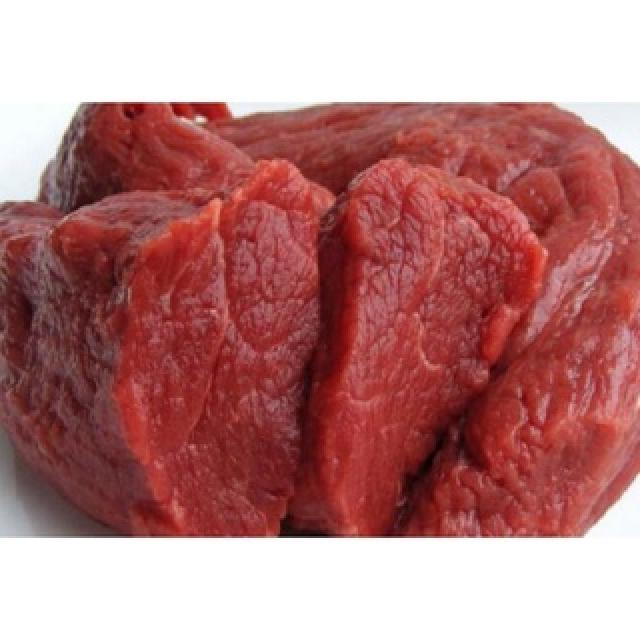Beef: (3, 102, 636, 542)
